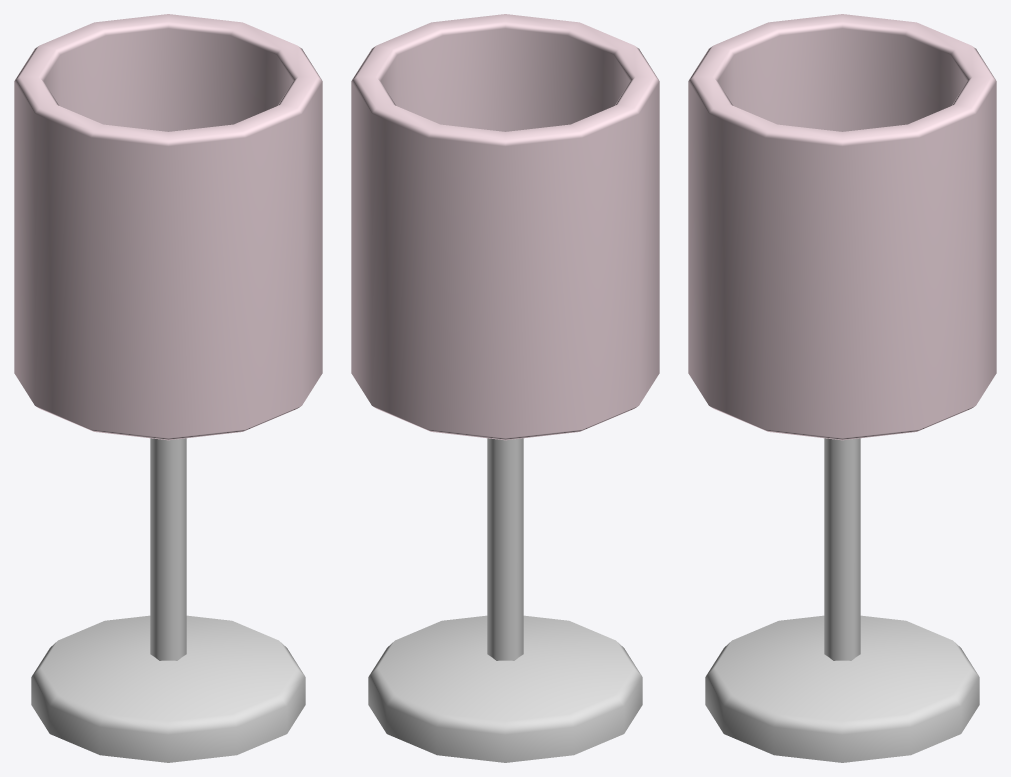
Rendered from lamp_005.fbx.
3 renders of one model, left to right at view 1: azimuth 30°, elevation 25°; view 2: azimuth 150°, elevation 25°; view 3: azimuth 270°, elevation 25°, orthographic.
Visible parts, largest first — view 1: lamp_005; view 2: lamp_005; view 3: lamp_005.
Boxes of the visible parts, bbox=[...] form: lamp_005: bbox=[14, 14, 322, 762]; lamp_005: bbox=[351, 14, 659, 762]; lamp_005: bbox=[688, 14, 996, 762].
Size of the model in its own units: 38.94 by 38.94 by 87.46.
